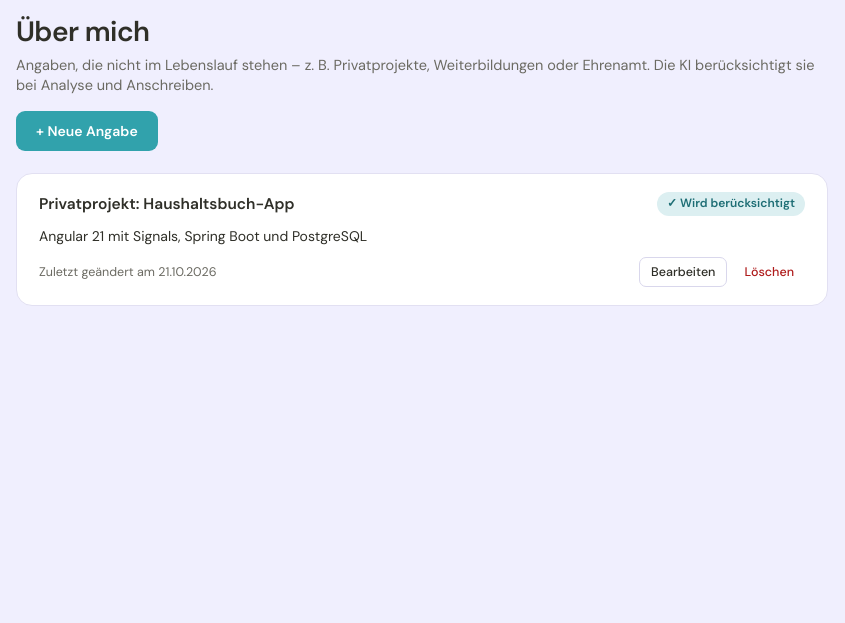
it: AboutComponent › edits a note in place
Click the button with class "jc-btn-small" at (683, 272), box [639,258,727,288]
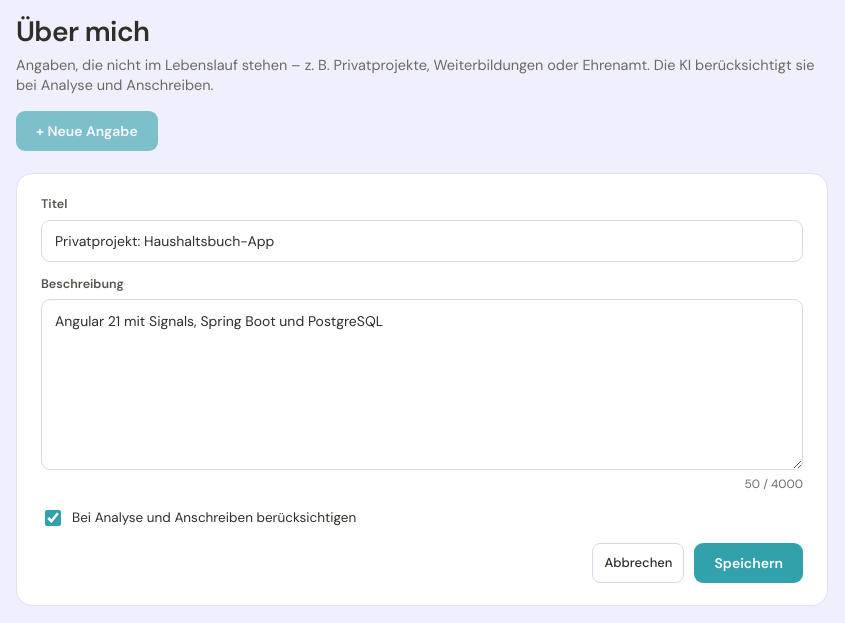
Expected: the text box labelled "Beschreibung 50 / 4000" holds "Angular 21 mit Signals, Spring Boot und PostgreSQL"
Replace the text in the text box labelled "Beschreibung 50 / 4000" with "Neu" at (422, 385), box [41,299,803,470]
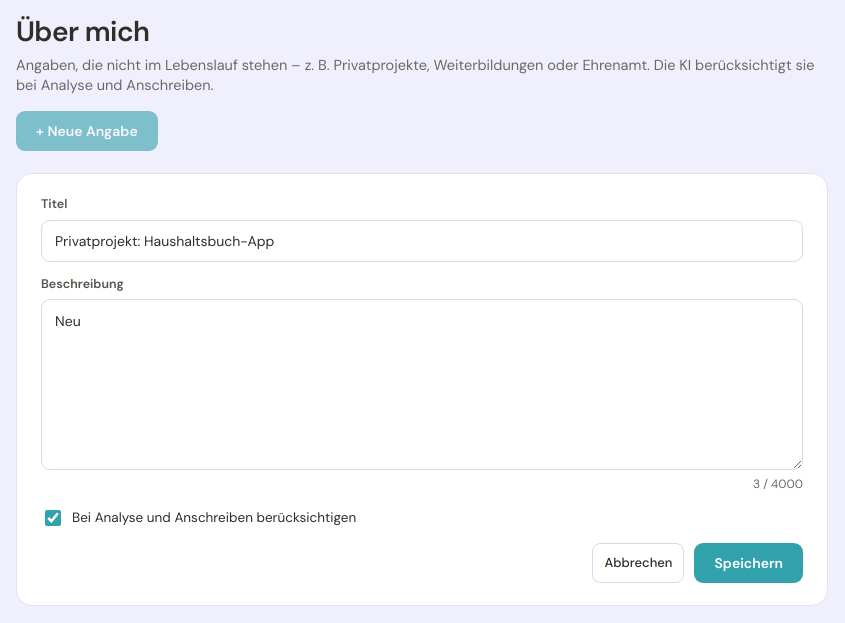
Click the submit button at (749, 563), box [694,543,803,583]
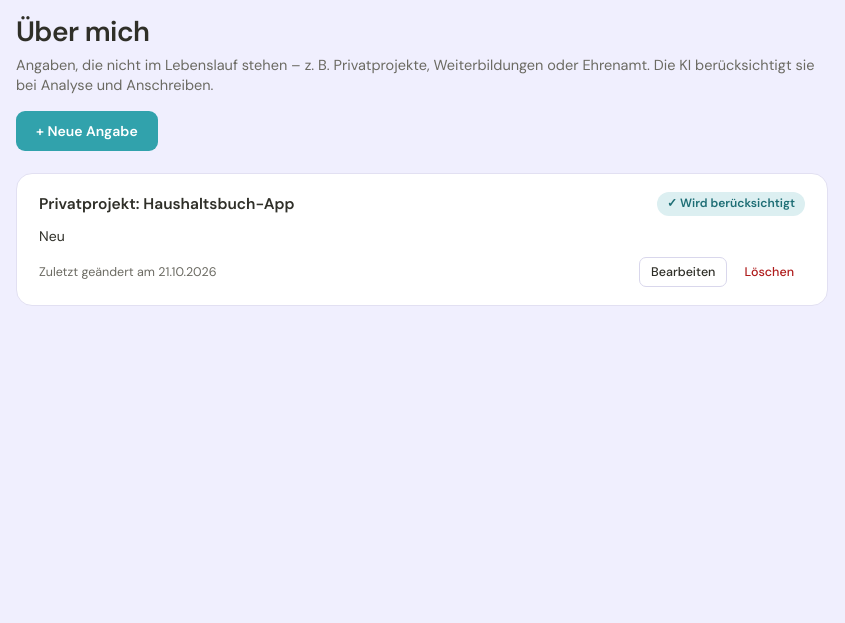
Expected: the text "Neu" is shown, [39,227,65,245]
